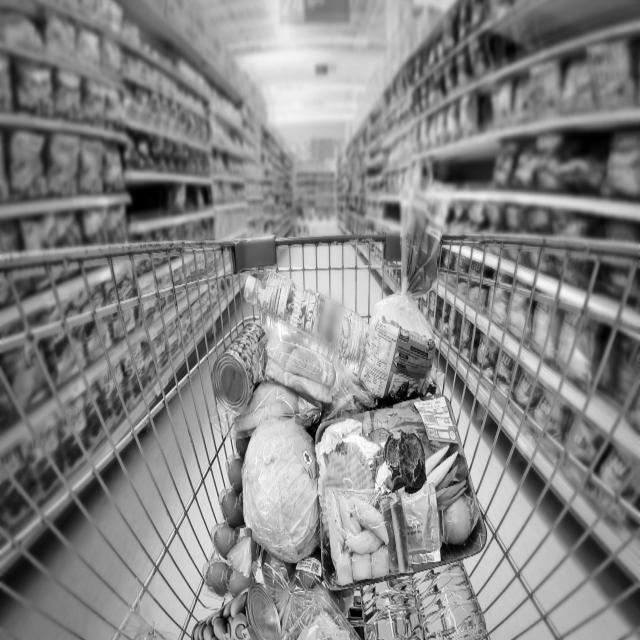banh mi: (360, 186, 455, 412)
bap cai: (242, 414, 324, 561)
dau: (239, 266, 374, 368)
trung: (208, 432, 258, 606)
